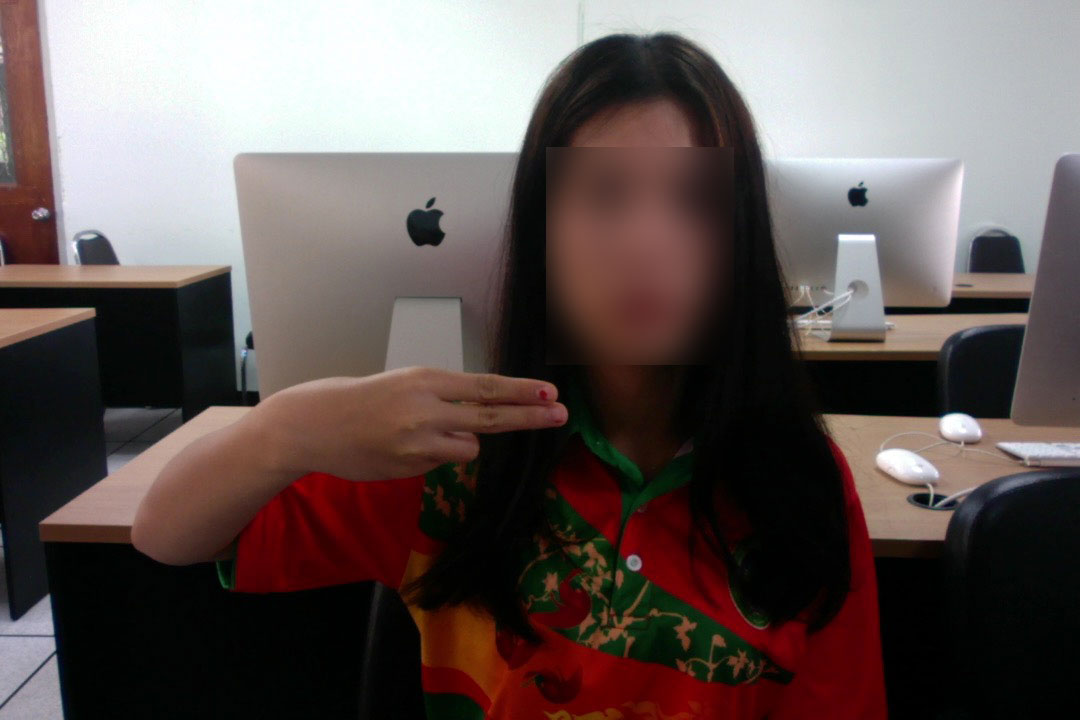hor: (278, 358, 574, 484)
